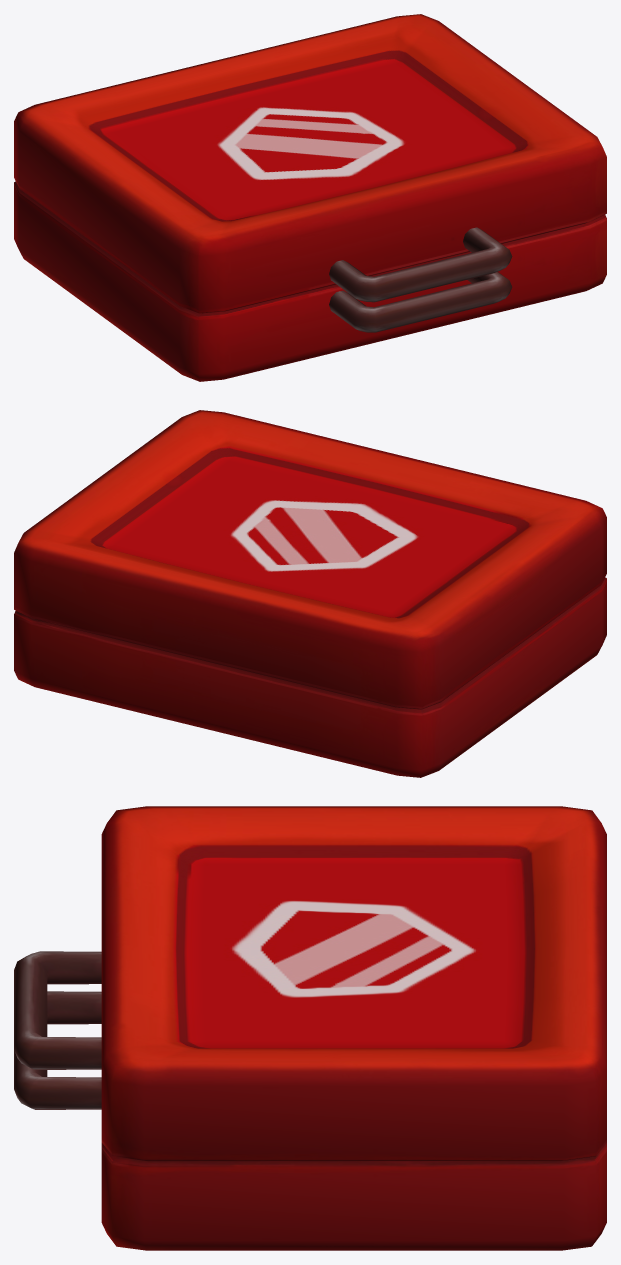
Rendered from yingjibao.fbx.
3 views of the same model, one above another, from view 1: azimuth 30°, elevation 25°; view 2: azimuth 150°, elevation 25°; view 3: azimuth 270°, elevation 25° (orthographic). The views are drawn at different scales.
Parts seen in each view (by area): view 1: yingjibao; view 2: yingjibao; view 3: yingjibao.
Part boxes in pixels (x1=…): yingjibao: x1=14, y1=14, x2=606, y2=381; yingjibao: x1=14, y1=410, x2=606, y2=777; yingjibao: x1=14, y1=806, x2=606, y2=1250.
Bounding box in the file's own units: 15.51 × 5.01 × 14.4.
